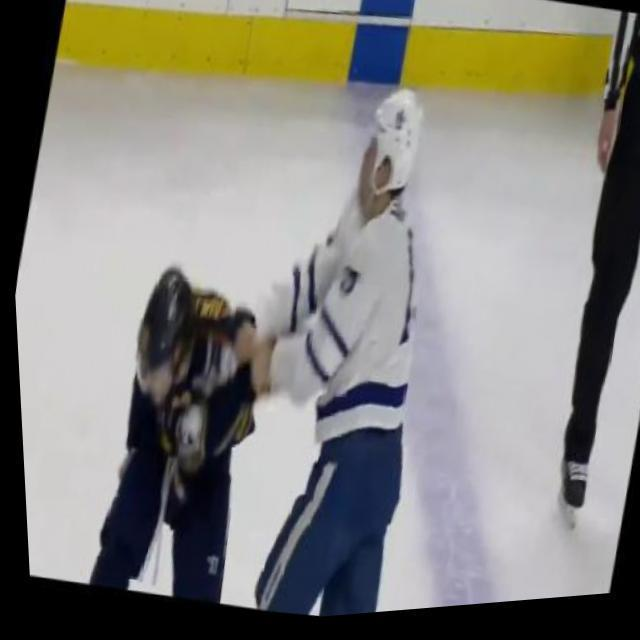fight: (62, 34, 490, 636)
